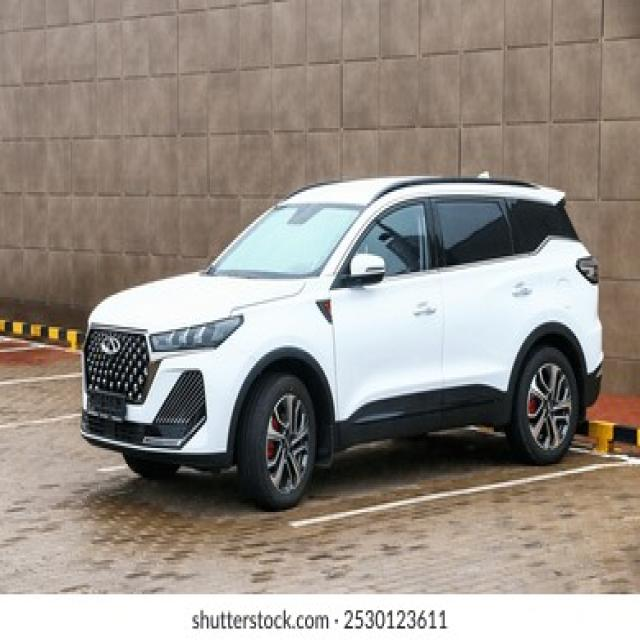cherry: (97, 334, 123, 357)
